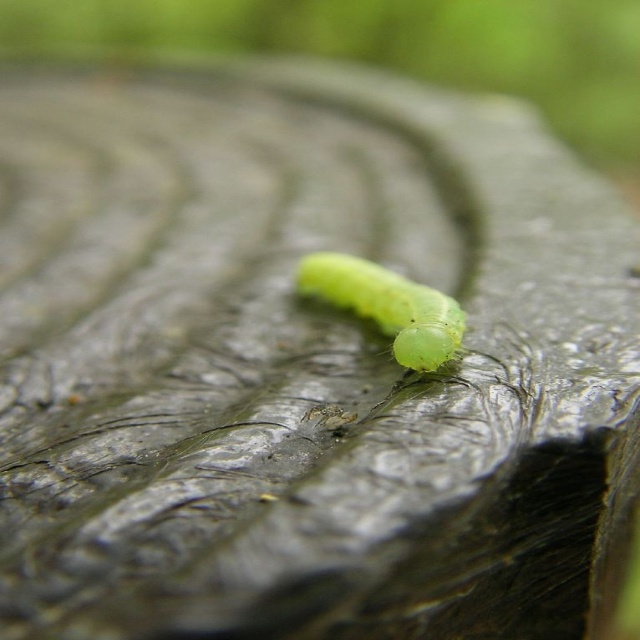Caterpillar: (292, 250, 470, 373)
